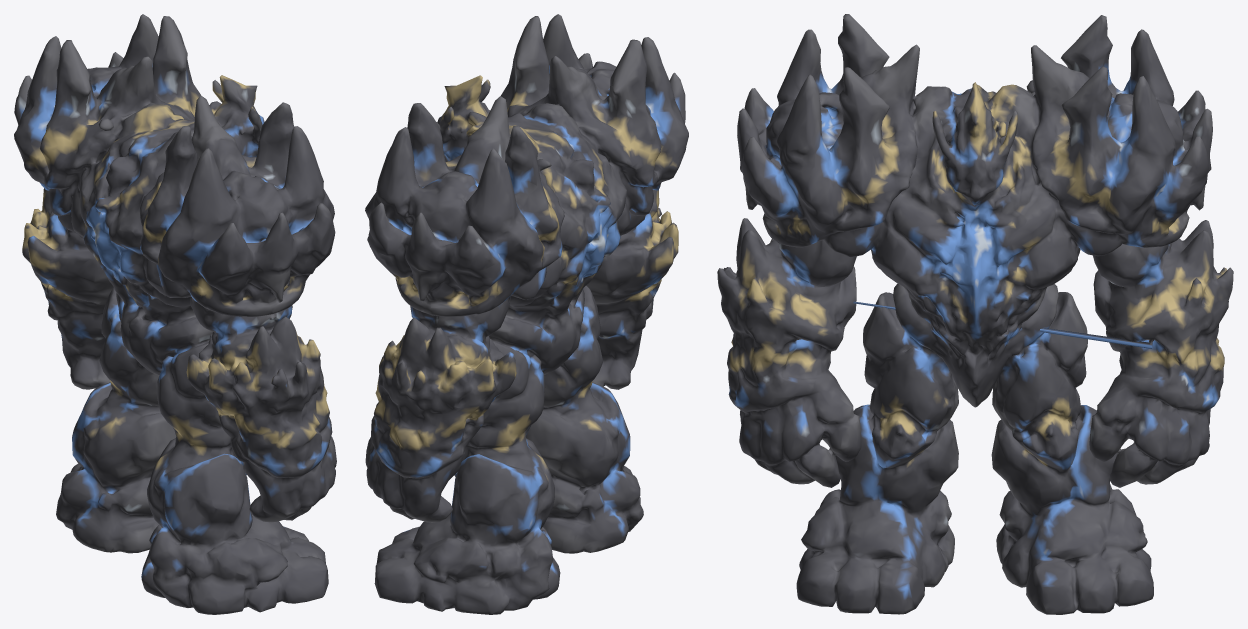
Rendered from colossus.glb.
3 views of the same model, side by side, from view 1: azimuth 30°, elevation 25°; view 2: azimuth 150°, elevation 25°; view 3: azimuth 270°, elevation 25° (orthographic). The views are drawn at different scales.
Parts seen in each view (by area): view 1: geometry_0; view 2: geometry_0; view 3: geometry_0.
Boxes of the visible parts, x1,y1,x2,y2 form: geometry_0: (14, 14, 336, 614); geometry_0: (365, 14, 688, 614); geometry_0: (717, 14, 1233, 614).
Size of the model in its own units: 0.962 by 2.41 by 2.15.
